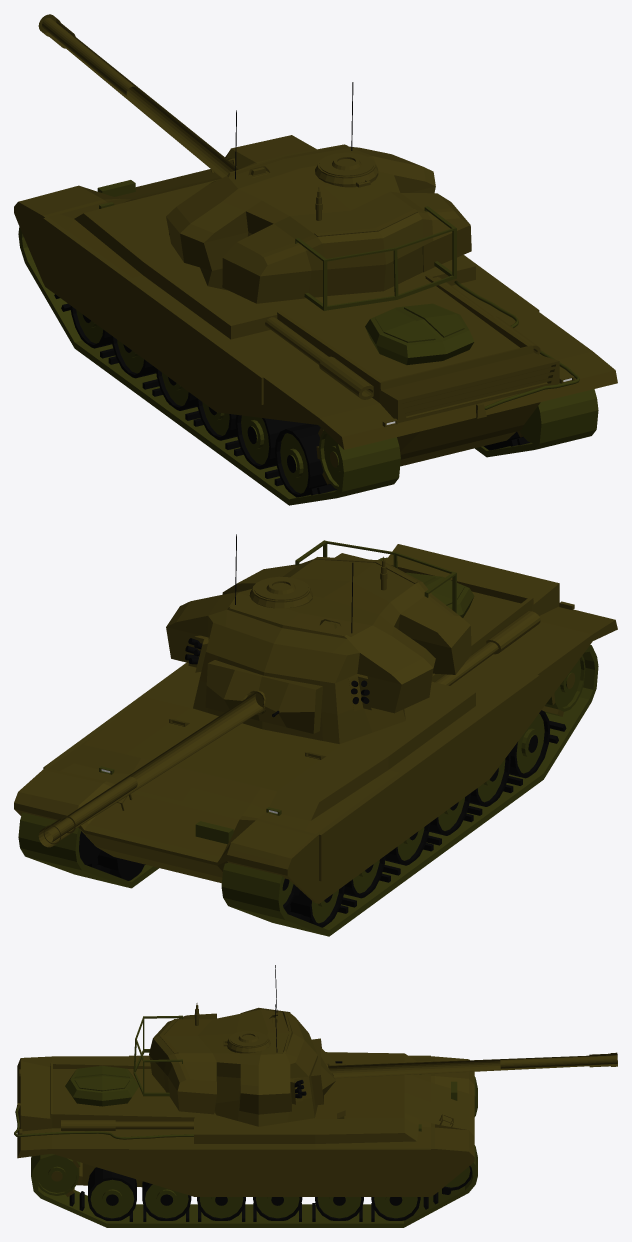
The model's file is Tank.fbx.
The picture shows the model from 3 angles, top to bottom: view 1: azimuth 30°, elevation 25°; view 2: azimuth 150°, elevation 25°; view 3: azimuth 270°, elevation 25°; orthographic projection. The views are drawn at different scales.
Parts seen in each view (by area): view 1: body, turret, track, rear_parts1, barrel, wheels1, exhaust, cage, wheels2, hatch, wheels_engine, wheels3 (+4 smaller); view 2: body, turret, track, turret_front, barrel, wheels6, wheels1, exhaust, hatch, wheels_engine, cage, rear_parts1 (+7 smaller); view 3: body, turret, track, barrel, rear_parts1, wheels1, wheels_engine, wheels2, exhaust, turret_front, wheels4, wheels6 (+6 smaller).
Part boxes in pixels (x1,y1,x2,y2): body: [14, 135, 617, 466]; turret: [166, 144, 471, 303]; track: [18, 227, 598, 505]; rear_parts1: [365, 303, 474, 364]; barrel: [38, 14, 239, 177]; wheels1: [275, 423, 522, 497]; exhaust: [265, 277, 540, 399]; cage: [295, 206, 456, 310]; wheels2: [235, 415, 306, 469]; hatch: [315, 152, 378, 187]; wheels_engine: [316, 409, 537, 489]; wheels3: [196, 398, 236, 440]; body: [14, 544, 617, 903]; turret: [166, 557, 471, 743]; track: [18, 645, 598, 936]; turret_front: [205, 660, 322, 733]; barrel: [38, 692, 263, 847]; wheels6: [97, 850, 344, 927]; wheels1: [509, 710, 549, 778]; exhaust: [434, 611, 540, 685]; hatch: [249, 576, 312, 608]; wheels_engine: [542, 655, 585, 716]; cage: [295, 540, 456, 613]; rear_parts1: [406, 572, 474, 617]; body: [16, 1052, 474, 1196]; turret: [149, 1007, 317, 1126]; track: [31, 1076, 477, 1227]; barrel: [328, 1052, 617, 1078]; rear_parts1: [65, 1065, 138, 1106]; wheels1: [88, 1167, 136, 1220]; wheels_engine: [36, 1157, 82, 1196]; wheels2: [142, 1181, 191, 1220]; exhaust: [61, 1120, 193, 1130]; turret_front: [311, 1038, 335, 1105]; wheels4: [253, 1197, 302, 1220]; wheels6: [371, 1197, 420, 1220].
Bounding box in the file's own units: 177 × 176 × 483.
